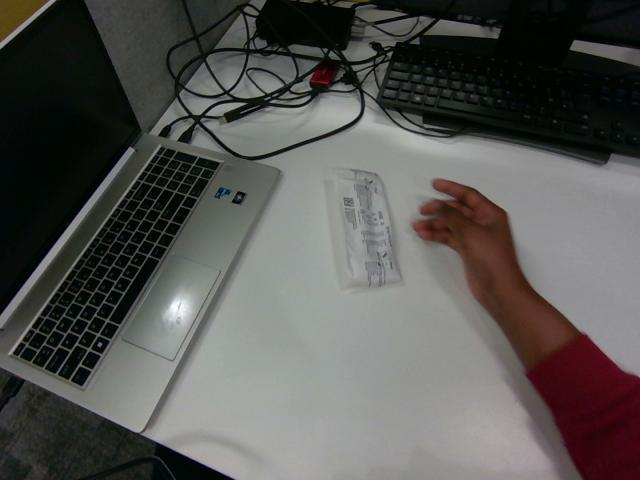syringe: (333, 168, 401, 289)
